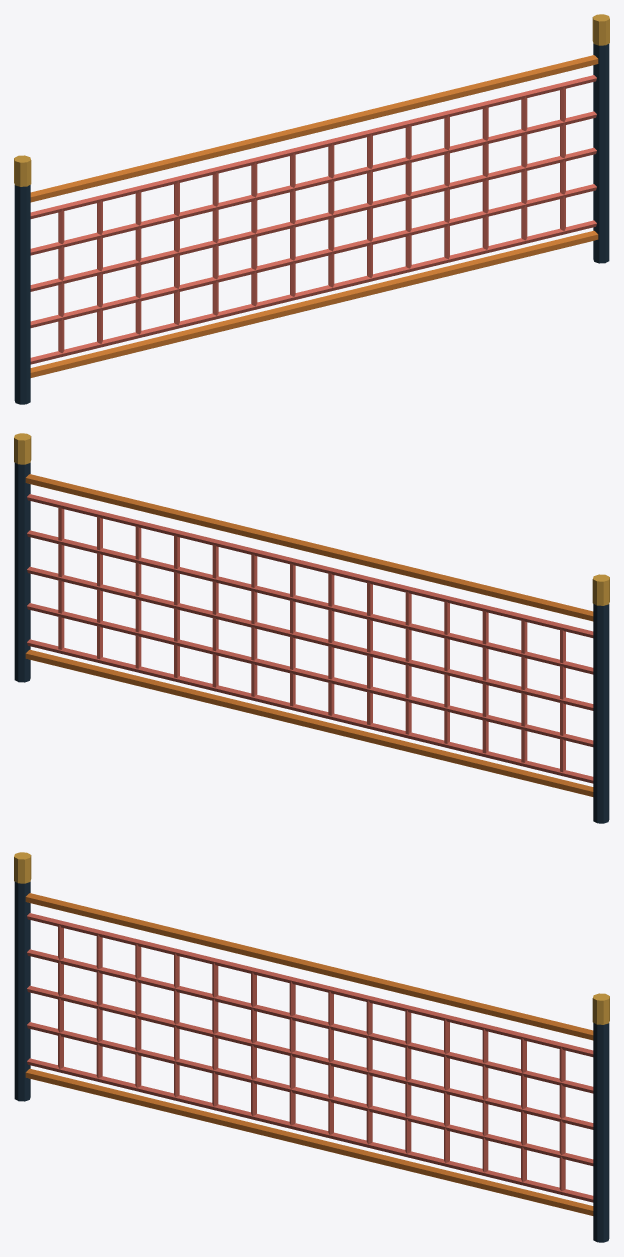
The model's file is fence.glb.
The picture shows the model from 3 angles, top to bottom: view 1: azimuth 30°, elevation 25°; view 2: azimuth 150°, elevation 25°; view 3: azimuth 330°, elevation 25°; orthographic projection.
Parts seen in each view (by area): view 1: fence_net, fence_rails, fence_posts; view 2: fence_net, fence_rails, fence_posts; view 3: fence_net, fence_rails, fence_posts.
Boxes of the visible parts, x1,y1,x2,y2 form: fence_net: [30, 75, 596, 364]; fence_rails: [30, 55, 598, 377]; fence_posts: [14, 14, 609, 404]; fence_net: [27, 494, 593, 783]; fence_rails: [25, 474, 593, 796]; fence_posts: [14, 433, 609, 823]; fence_net: [27, 913, 593, 1202]; fence_rails: [25, 893, 593, 1215]; fence_posts: [14, 852, 609, 1242].
Bounding box in the file's own units: 3.08 × 1.2 × 0.08.
